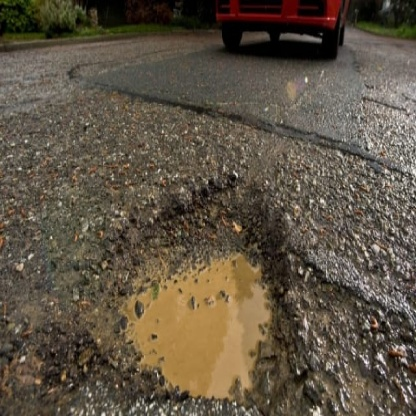pothole: (33, 163, 363, 416)
